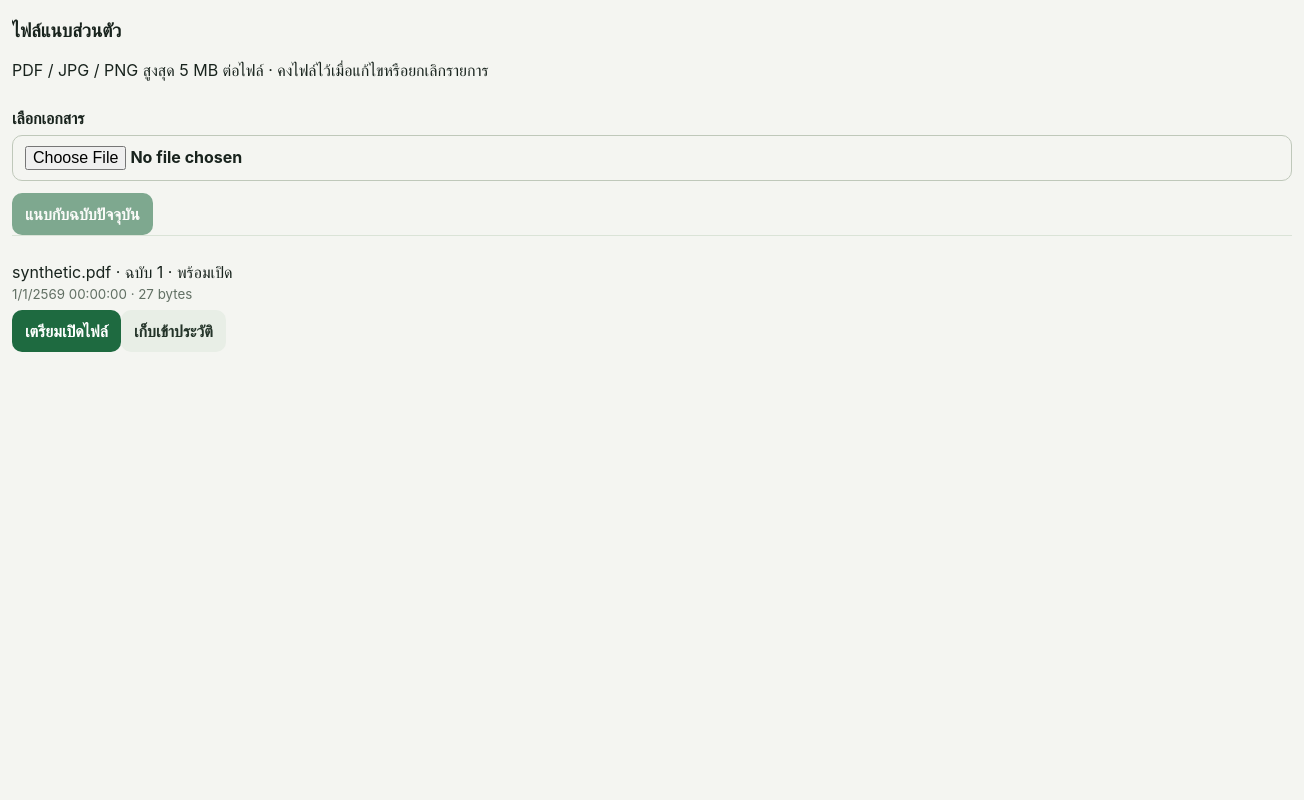
it: Attachment retry and complete backup flow › requires a reason for archive and obtains a short-lived download link
Click the button "เตรียมเปิดไฟล์" at coordinates (66, 331), box [12,310,121,352]
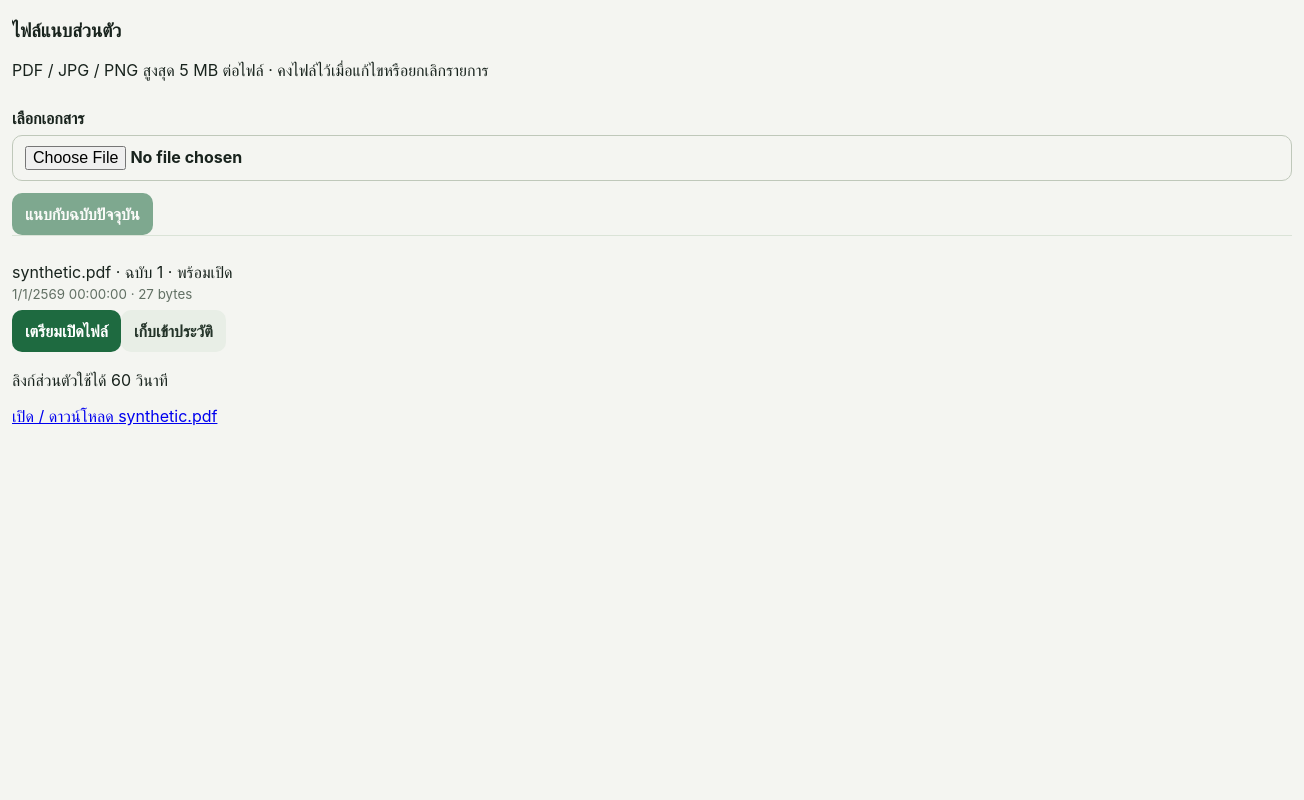
Click the button "เก็บเข้าประวัติ" at coordinates (173, 331), box [121,310,226,352]
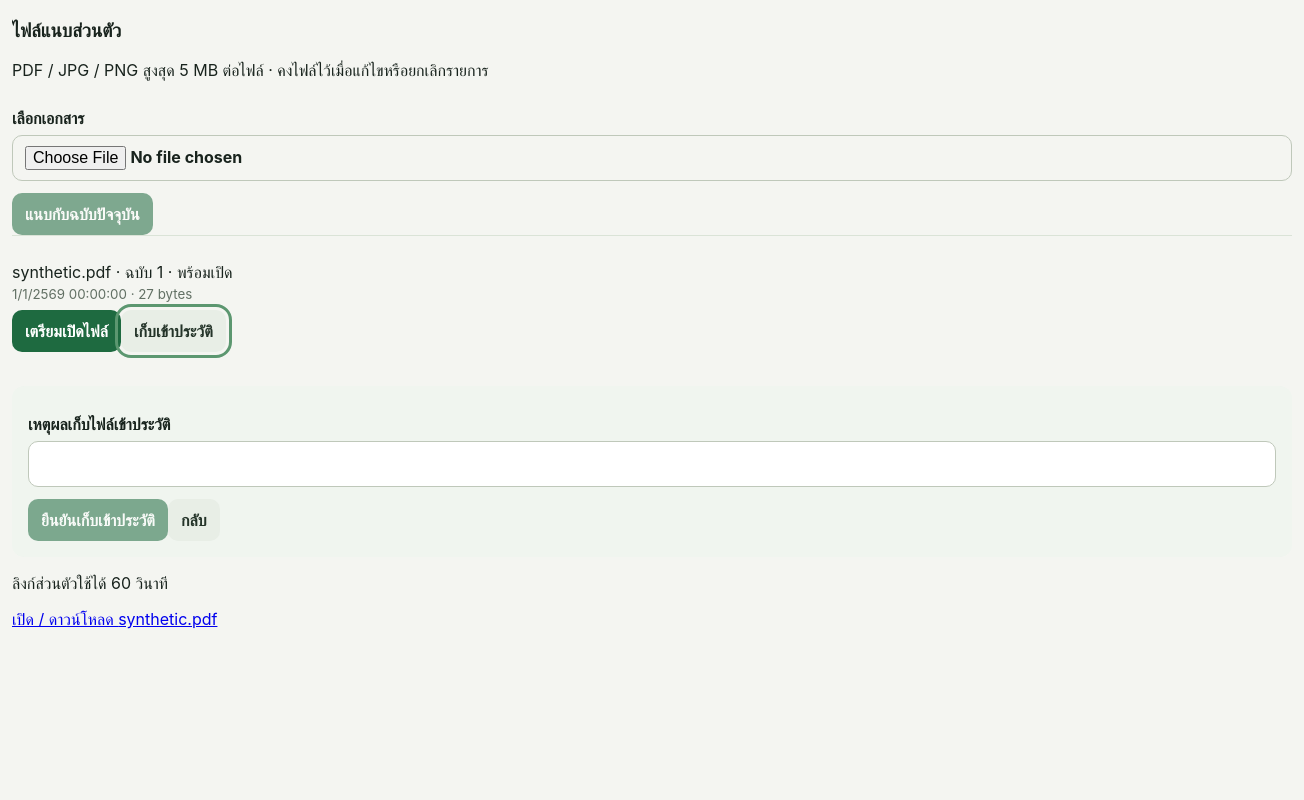
Result: the button "ยืนยันเก็บเข้าประวัติ" is disabled at [28,499,168,541]
Type "superseded" into the field labelled "เหตุผลเก็บไฟล์เข้าประวัติ" at coordinates (652, 464), box [28,441,1276,487]
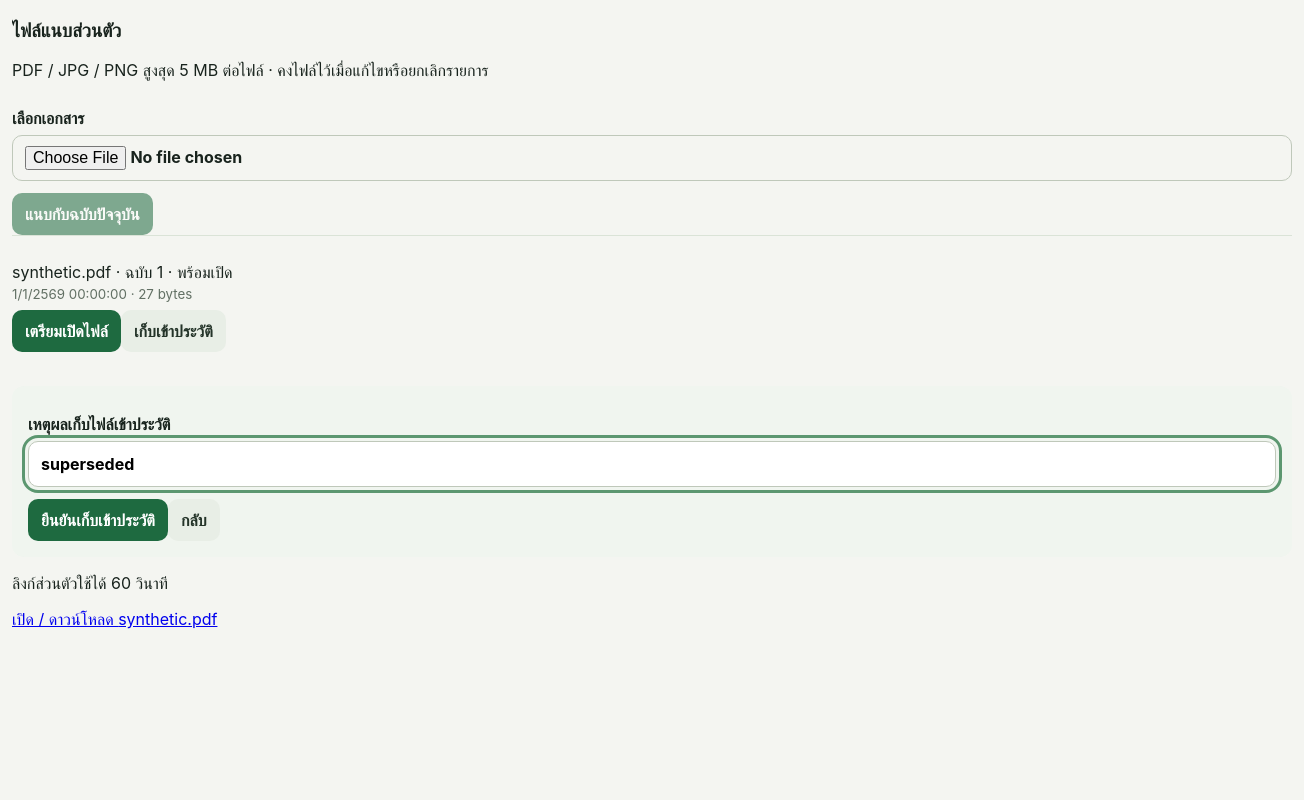
Click the button "ยืนยันเก็บเข้าประวัติ" at coordinates (98, 520), box [28,499,168,541]
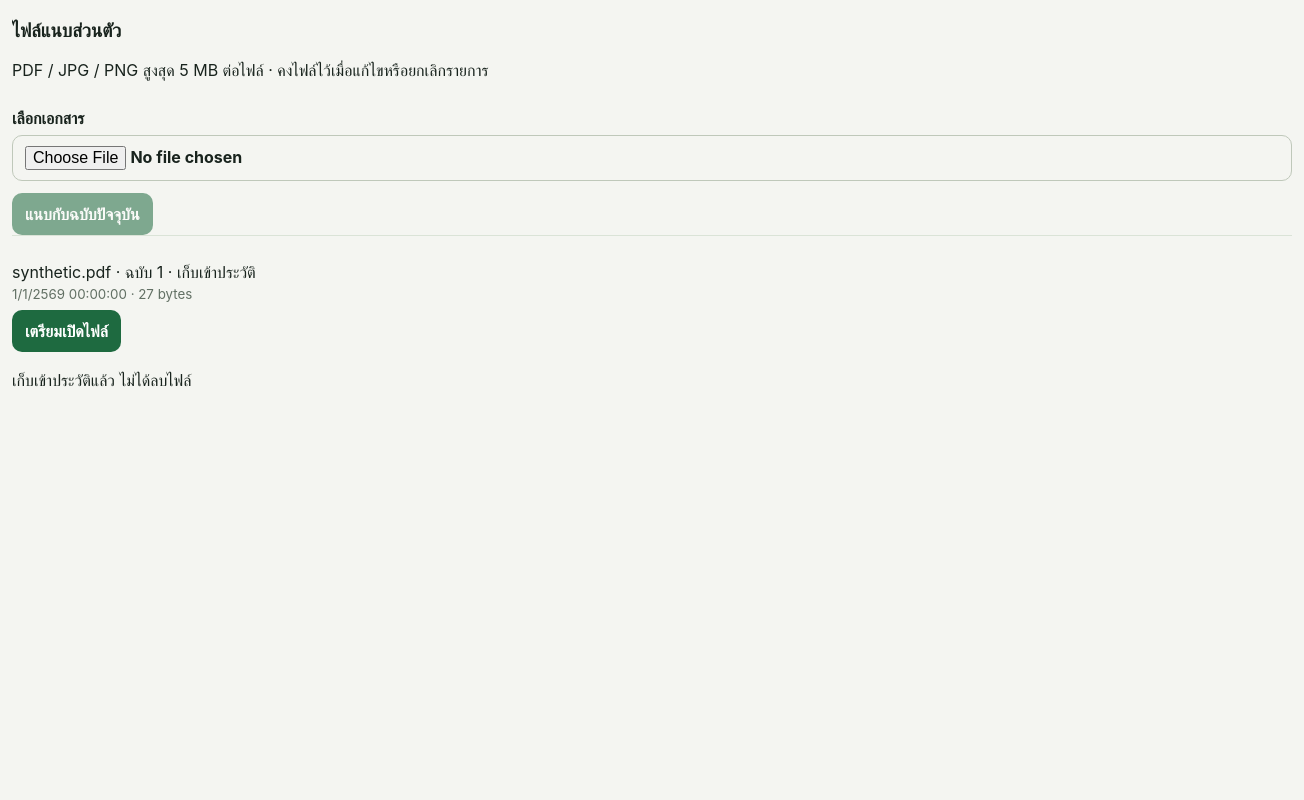
Result: the text "เก็บเข้าประวัติแล้ว ไม่ได้ลบไฟล์" is shown at [12,370,191,390]
